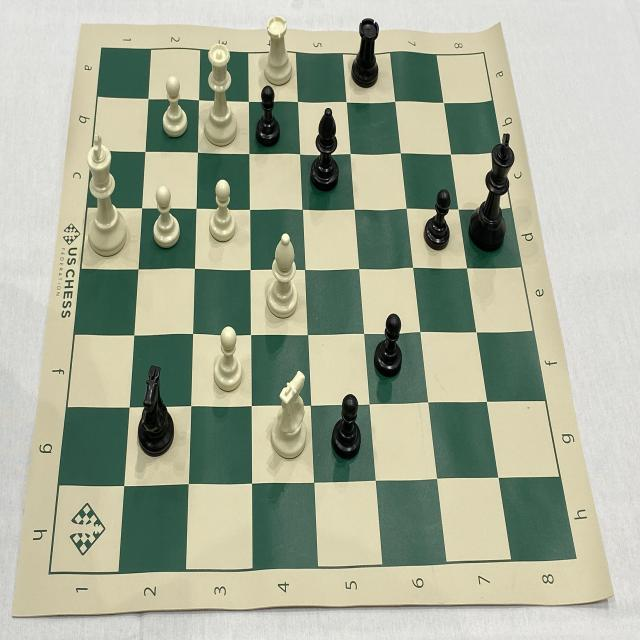black-bishop: (305, 101, 343, 195)
black-king: (466, 129, 518, 259)
black-pawn: (329, 389, 365, 464), (371, 306, 405, 384), (252, 82, 284, 150), (423, 186, 453, 258)
black-rook: (348, 10, 384, 94)
white-bishop: (263, 225, 301, 324)
white-king: (81, 127, 129, 260)
white-knight: (134, 360, 179, 462), (267, 364, 312, 464)
white-pawn: (210, 317, 246, 397), (147, 183, 185, 254), (206, 175, 240, 249), (158, 72, 191, 142)
white-queen: (202, 38, 240, 152)
white-rook: (260, 9, 295, 91)
